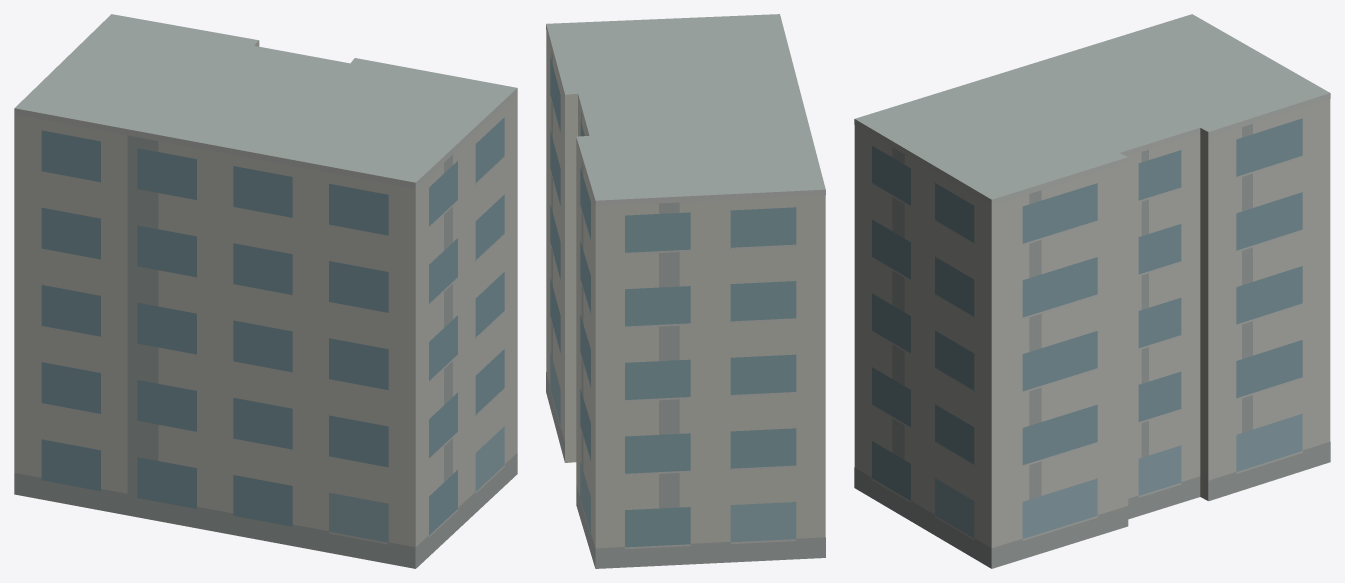
Rendered from survey-upis-32799793.glb.
3 renders of one model, left to right at view 1: azimuth 30°, elevation 25°; view 2: azimuth 150°, elevation 25°; view 3: azimuth 270°, elevation 25°, orthographic. The views are drawn at different scales.
Parts seen in each view (by area): view 1: survey-upis-32799793.tmp; view 2: survey-upis-32799793.tmp; view 3: survey-upis-32799793.tmp.
Boxes of the visible parts, box(x1,y1,x2,y2) form: survey-upis-32799793.tmp: box(14, 14, 517, 568); survey-upis-32799793.tmp: box(546, 14, 825, 568); survey-upis-32799793.tmp: box(854, 14, 1330, 568).
Size of the model in its own units: 16.46 by 15.25 by 17.82.
